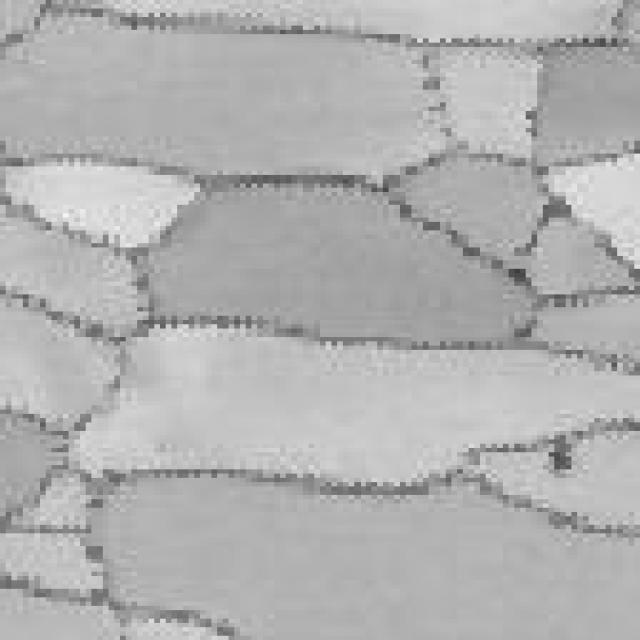good_void: (541, 429, 584, 476)
